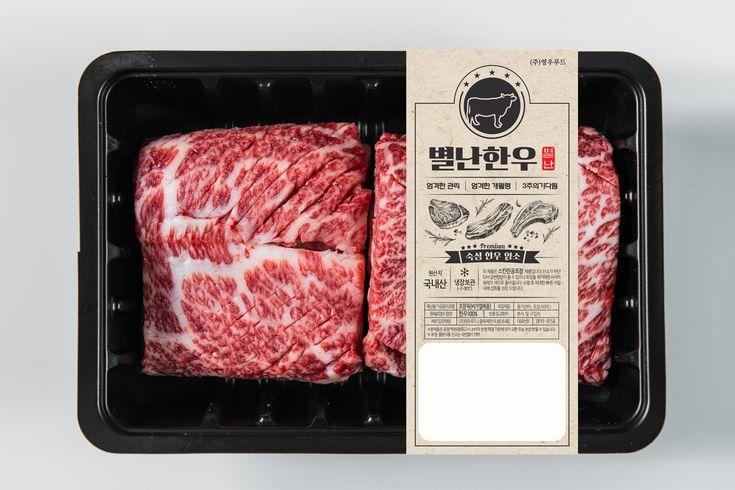beef: (160, 100, 423, 292)
